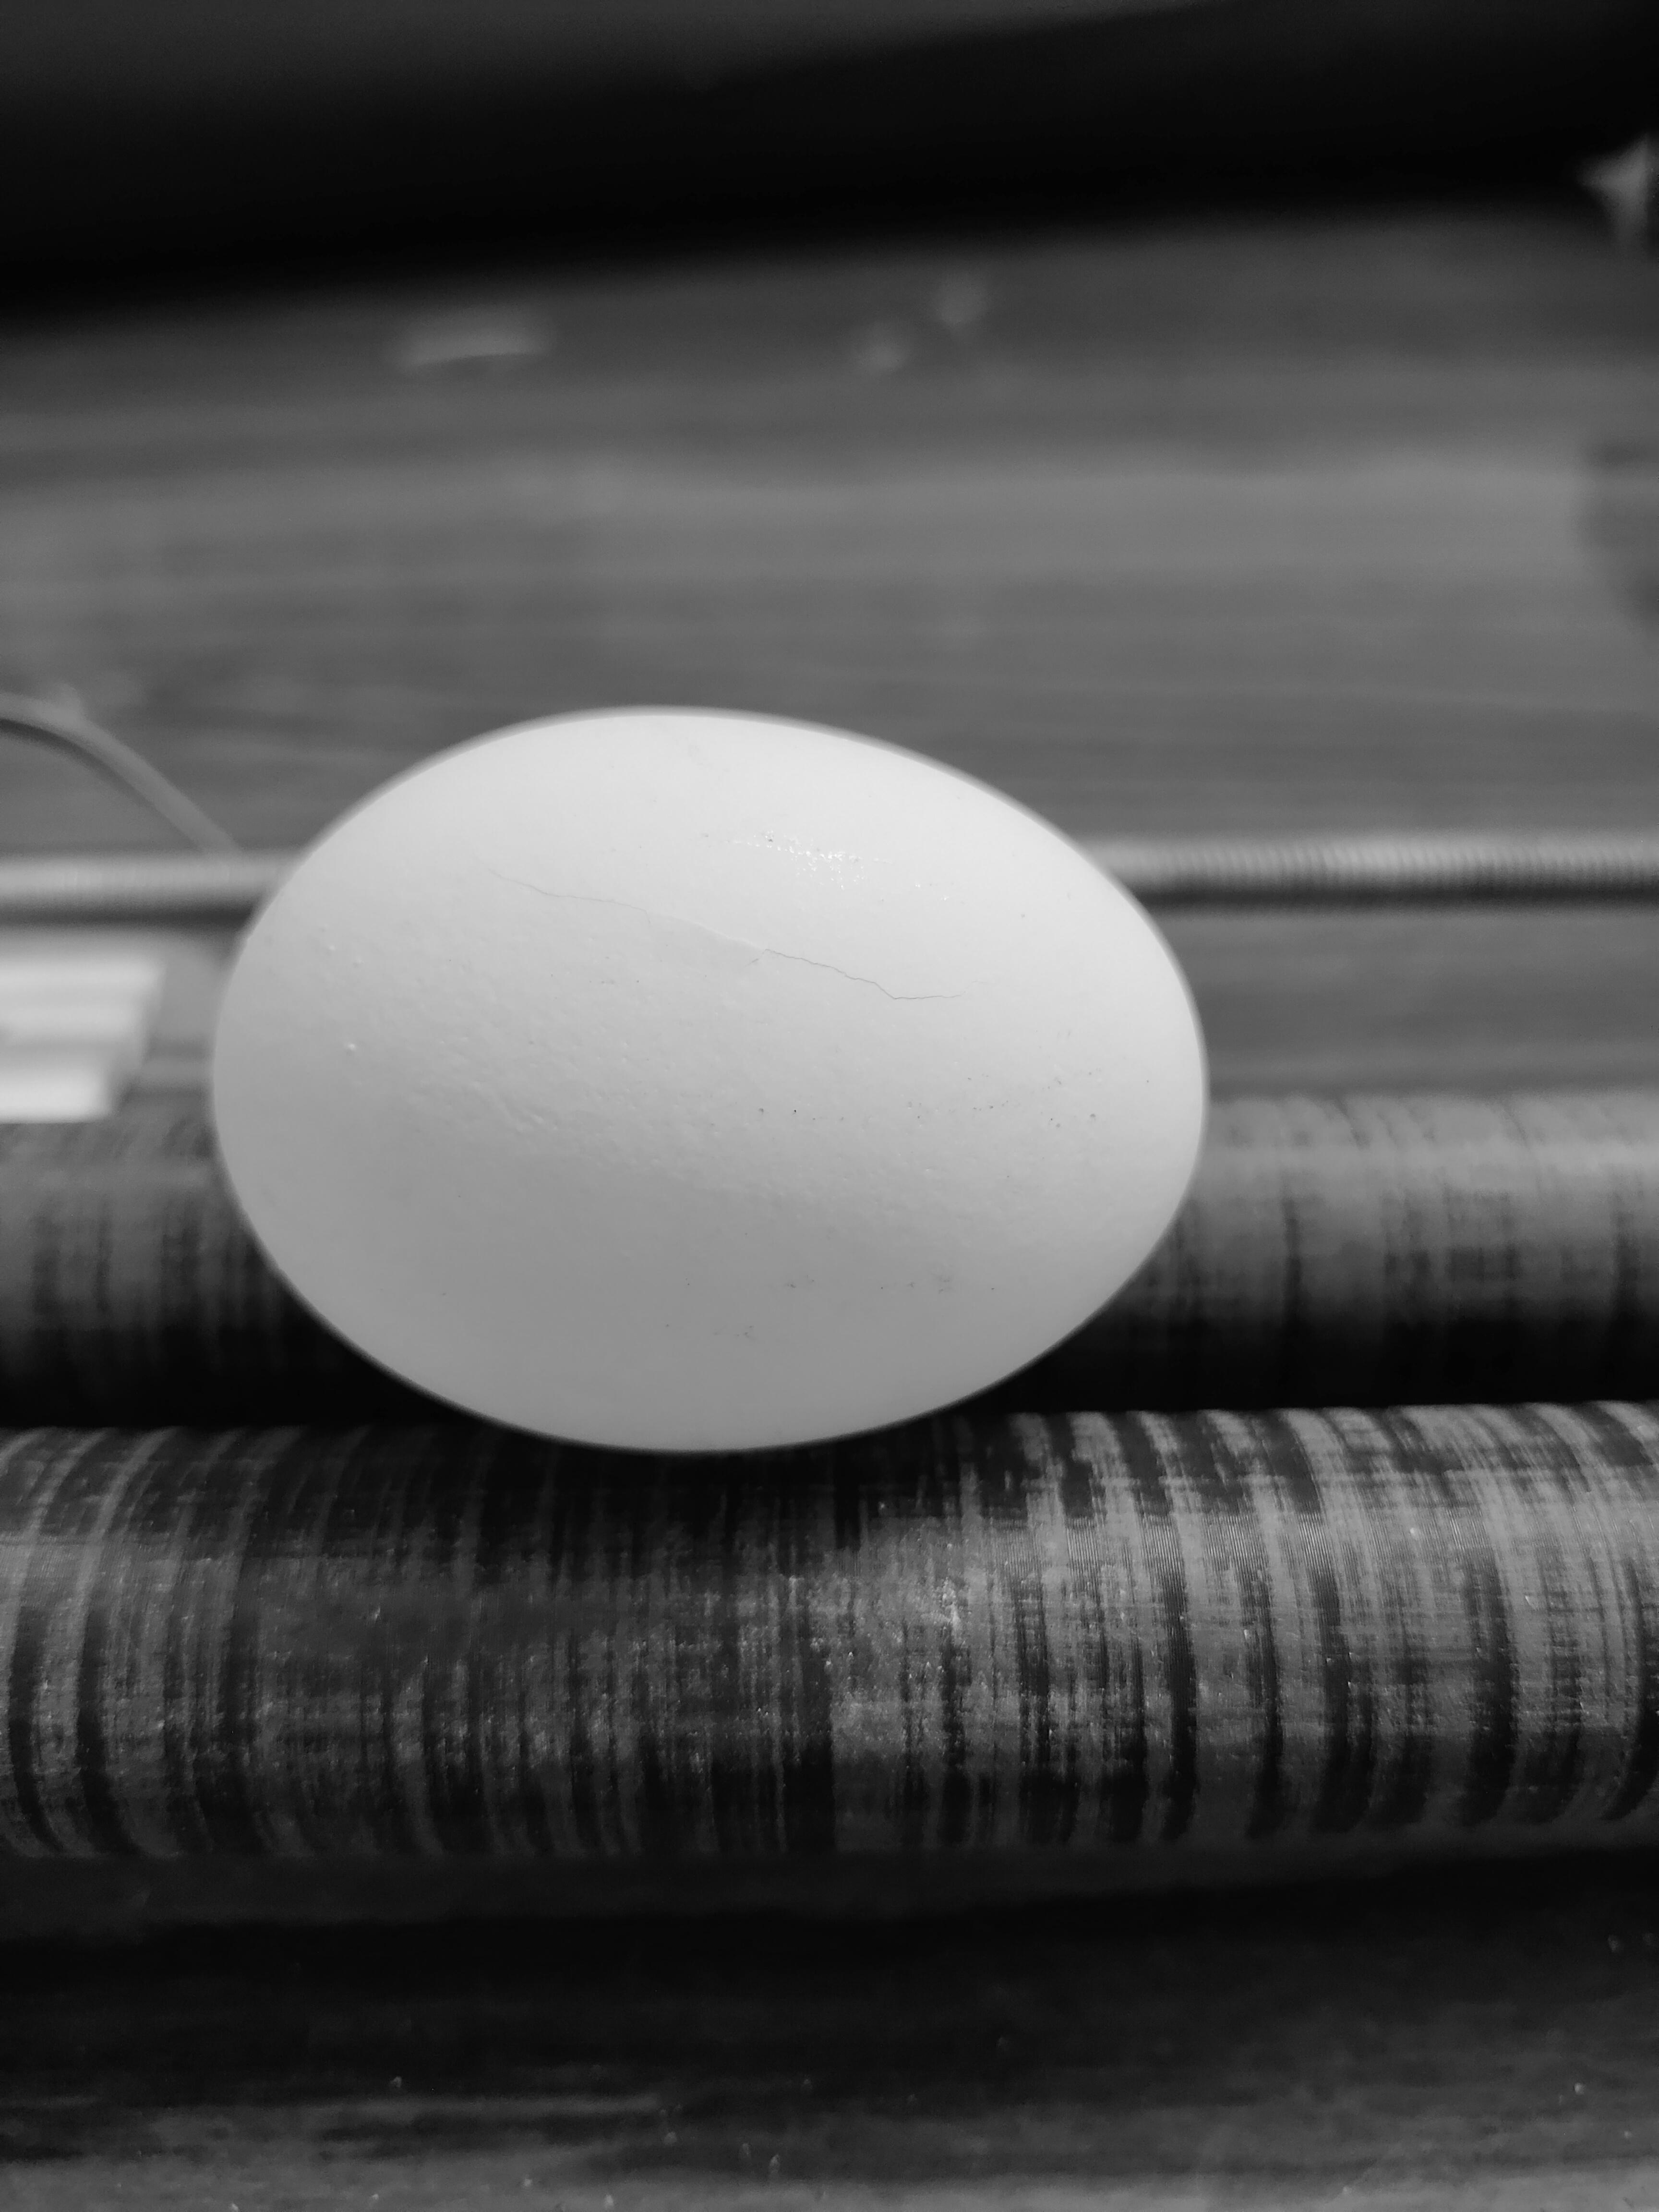telur: (183, 678, 1229, 1475)
